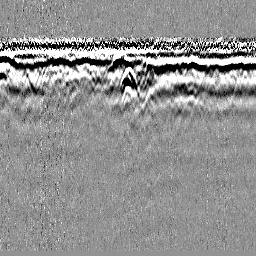cavity: (118, 66, 140, 97)
